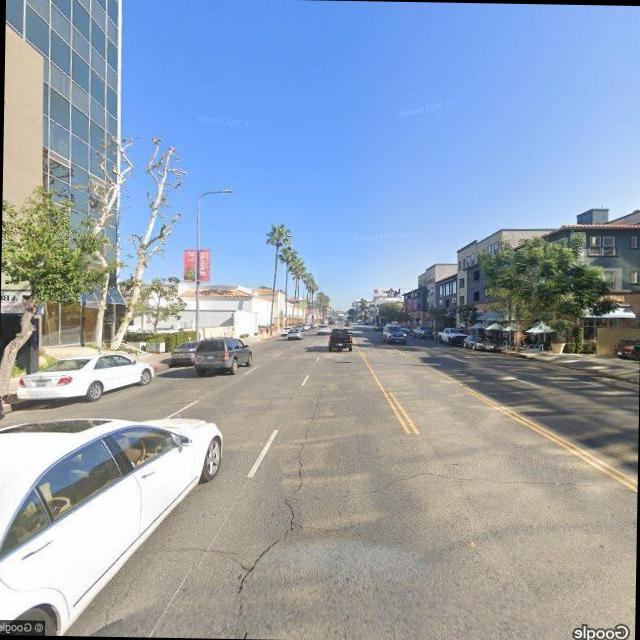crack: (215, 376, 324, 638), (294, 458, 628, 506), (98, 569, 140, 630), (147, 540, 251, 562)
